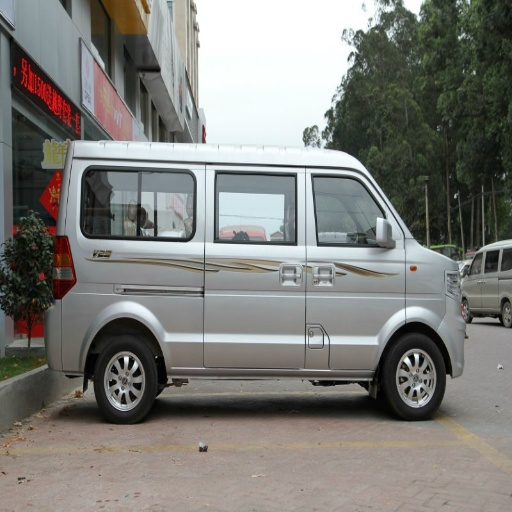back_right_door: (83, 166, 305, 317)
trunk: (53, 261, 235, 372)
